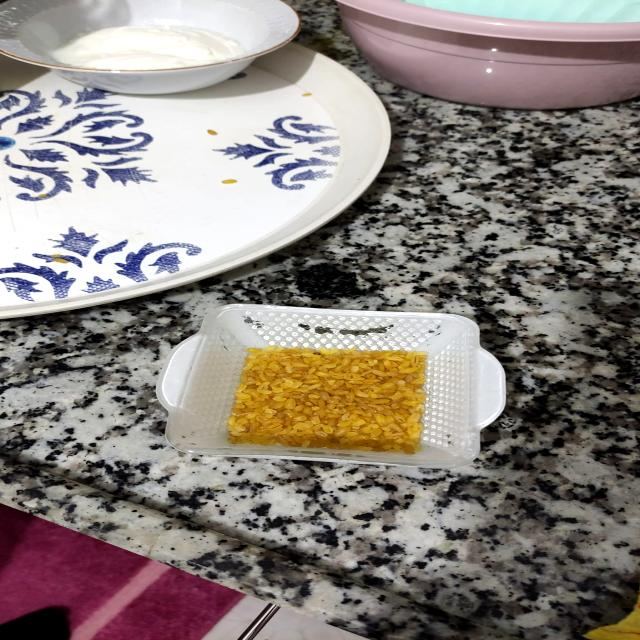bulgur: (161, 296, 518, 476)
